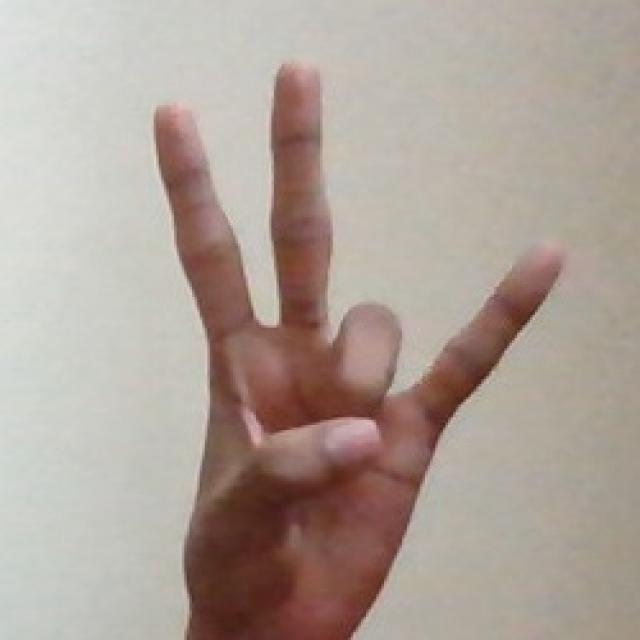Numeric-7: (145, 56, 563, 609)
